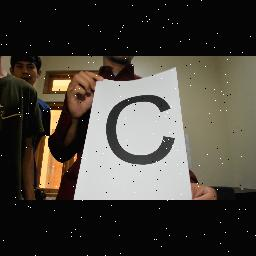c: (100, 92, 178, 168)
